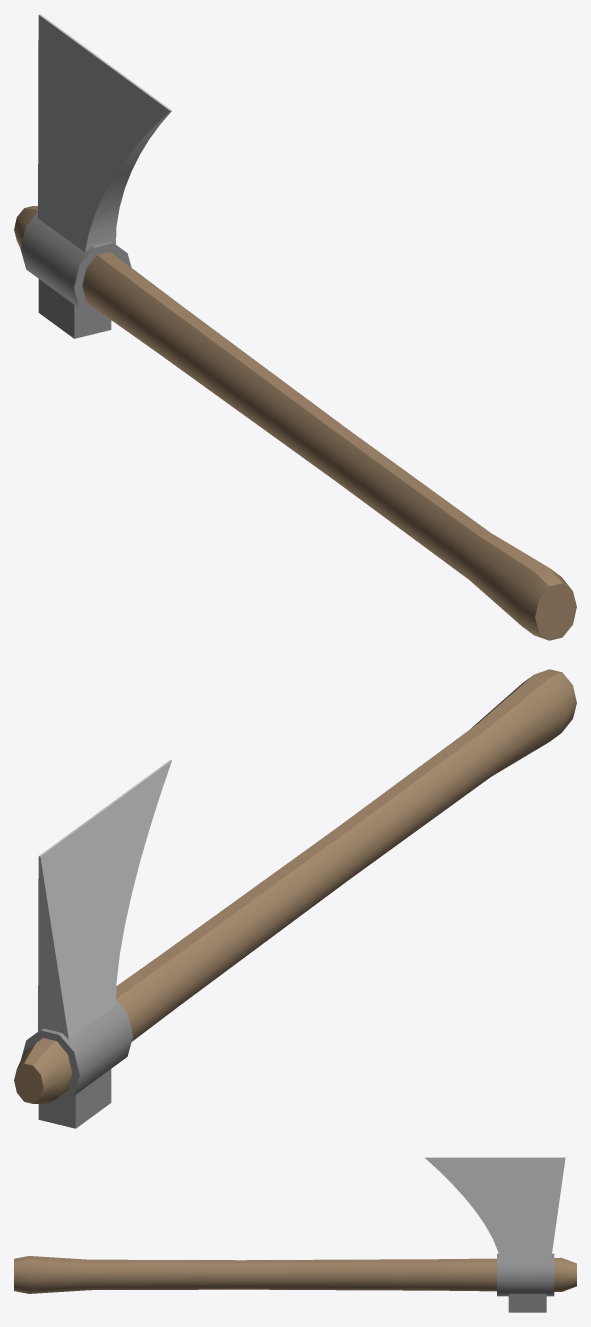
Rendered from bearded_axe.glb.
The picture shows the model from 3 angles, top to bottom: view 1: azimuth 30°, elevation 25°; view 2: azimuth 150°, elevation 25°; view 3: azimuth 270°, elevation 25°; orthographic projection. The views are drawn at different scales.
Visible parts, largest first — view 1: bearded_axe; view 2: bearded_axe; view 3: bearded_axe.
Boxes of the visible parts, x1,y1,x2,y2 form: bearded_axe: (14, 14, 576, 640); bearded_axe: (14, 669, 576, 1128); bearded_axe: (14, 1157, 576, 1312).
Size of the model in its own units: 0.048 by 0.2175 by 0.74.
